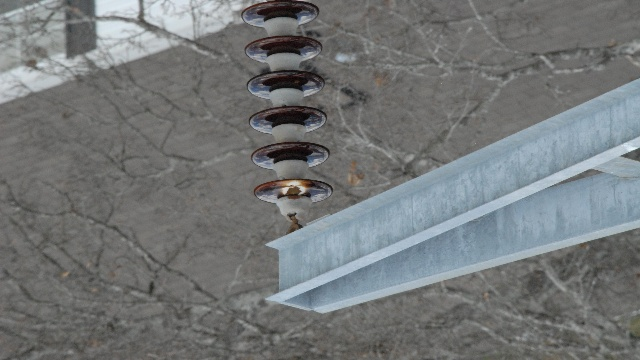insulator_unspecified: (239, 2, 332, 202)
pollution_flashover_local: (277, 176, 313, 199)
